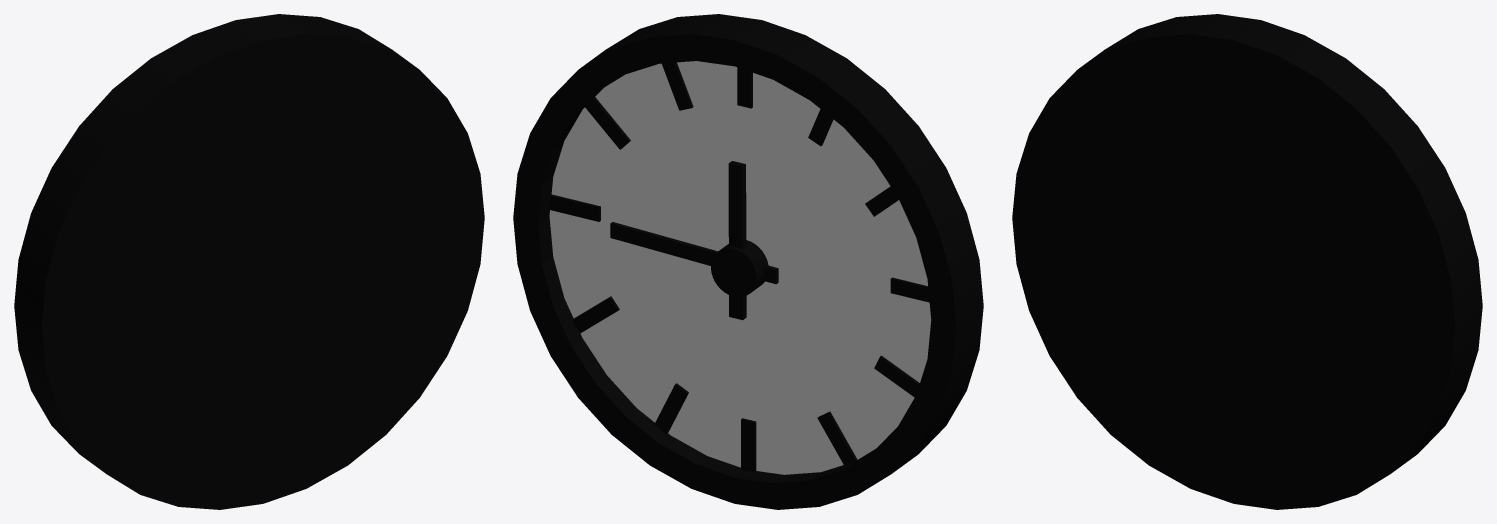
Rendered from ClockV6.fbx.
3 renders of one model, left to right at view 1: azimuth 30°, elevation 25°; view 2: azimuth 150°, elevation 25°; view 3: azimuth 330°, elevation 25°, orthographic.
Visible parts, largest first — view 1: Clock; view 2: Clock, Minute, Hour; view 3: Clock.
Boxes of the visible parts, <box> form: Clock: <box>14,14,484,509</box>; Clock: <box>513,14,983,509</box>; Minute: <box>610,222,778,284</box>; Hour: <box>728,161,746,320</box>; Clock: <box>1012,14,1482,509</box>.
Size of the model in its own units: 216 by 216 by 23.98.
Materials: 1 (1 with a texture image).
